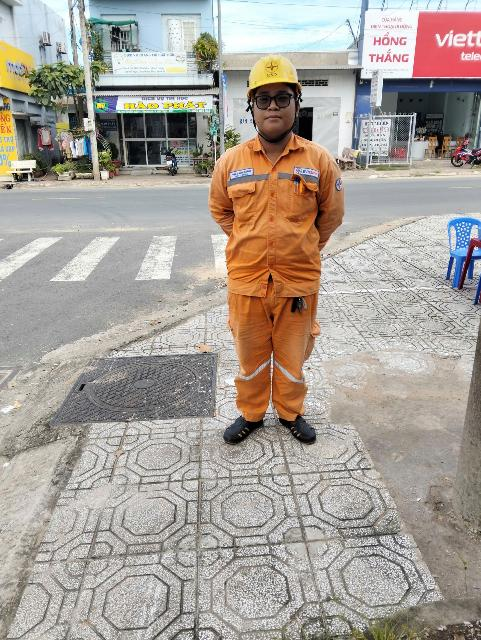helmet: (235, 47, 307, 103)
shoes: (206, 401, 267, 448), (270, 408, 328, 453)
